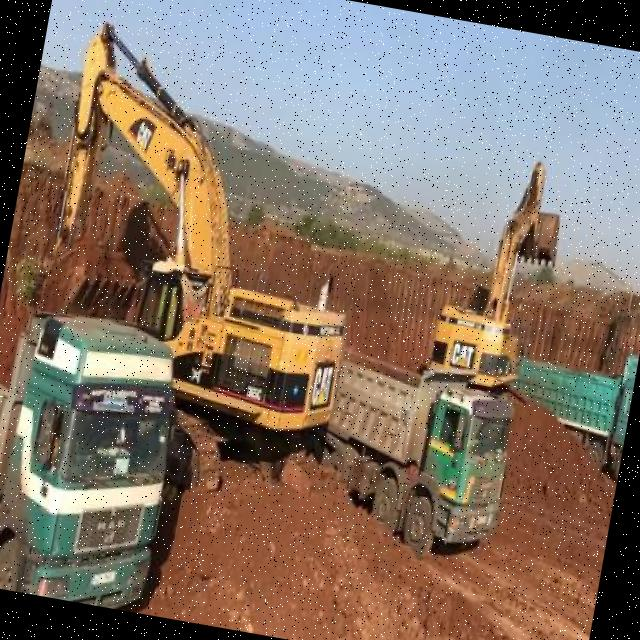Dump Truck: (0, 297, 191, 613), (308, 355, 520, 567), (508, 336, 638, 481)
Excavator: (8, 16, 394, 514), (422, 146, 572, 404)
